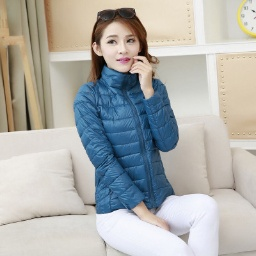face: (87, 6, 151, 76)
